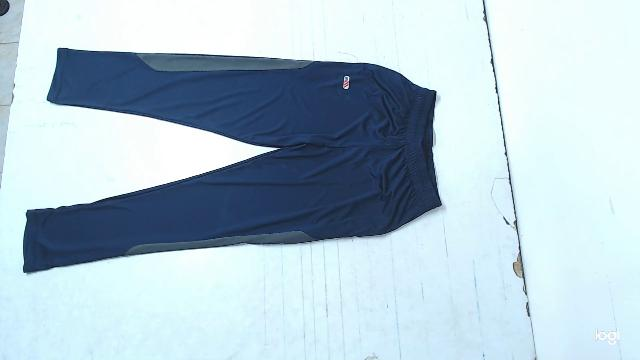new-garment: (23, 48, 441, 272)
